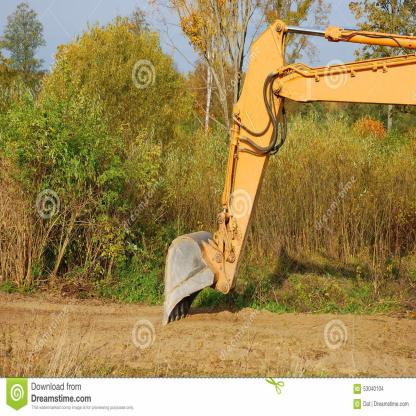excavator: (153, 9, 416, 332)
